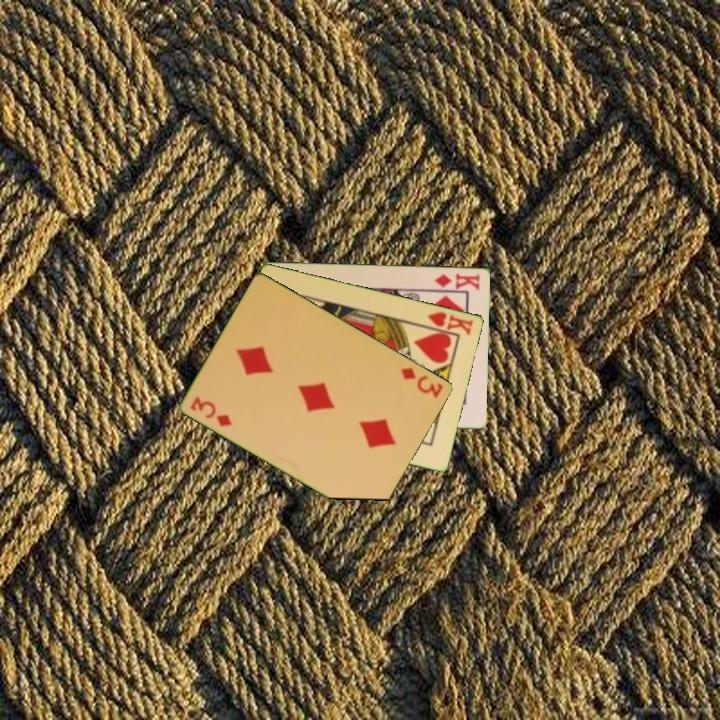3d: (397, 364, 446, 401), (187, 393, 235, 429)
Kd: (431, 269, 483, 292)
Kh: (418, 308, 476, 338)
